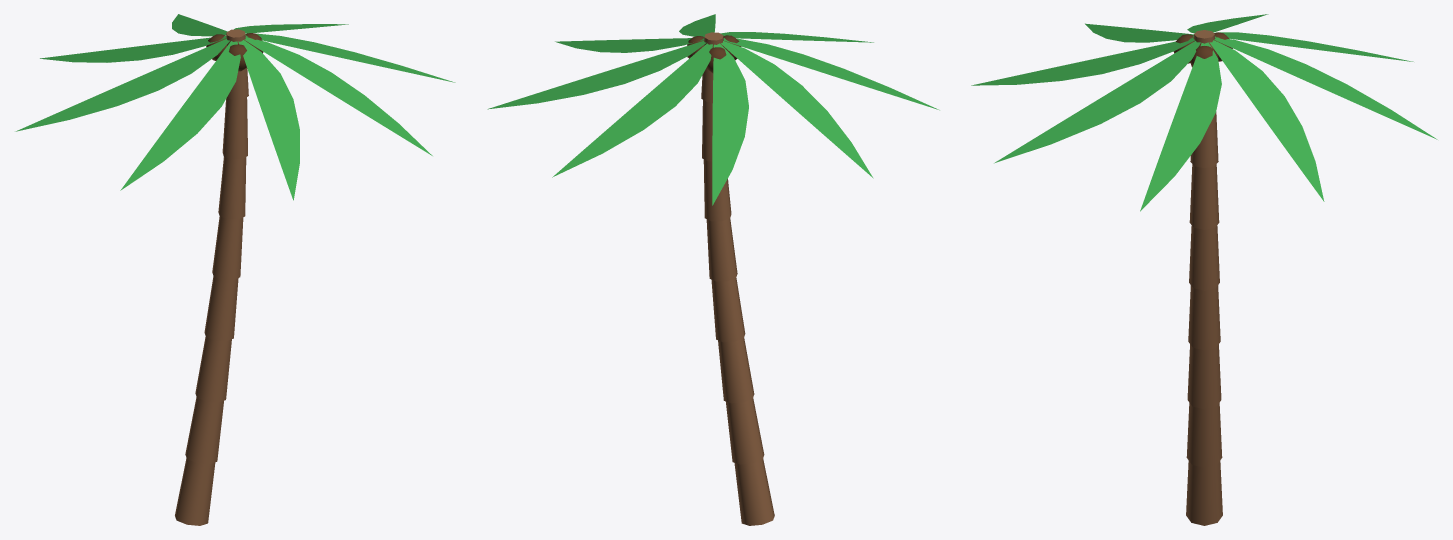
Rendered from palm.glb.
3 renders of one model, left to right at view 1: azimuth 30°, elevation 25°; view 2: azimuth 150°, elevation 25°; view 3: azimuth 270°, elevation 25°, orthographic. The views are drawn at different scales.
Parts seen in each view (by area): view 1: palm; view 2: palm; view 3: palm.
Part boxes in pixels (x1,y1,x2,y2): palm: [15, 14, 455, 525]; palm: [487, 14, 939, 525]; palm: [971, 14, 1437, 525].
Size of the model in its own units: 5.07 by 6.06 by 5.07.
